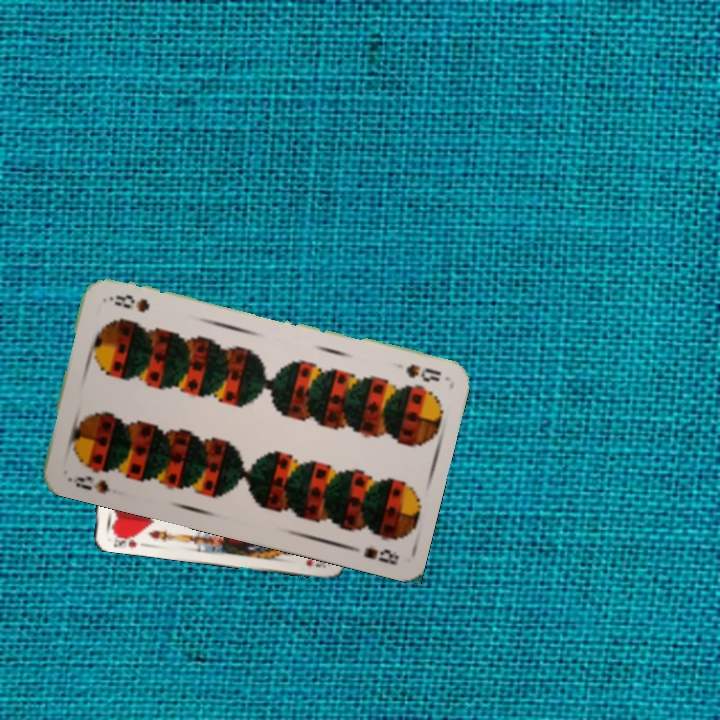HK: (109, 528, 140, 550)
S8: (63, 472, 113, 497), (401, 360, 444, 385)
